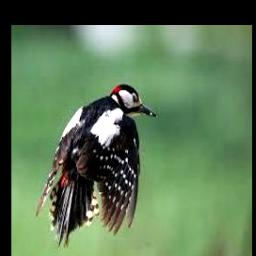Woodpecker: (37, 83, 157, 250)
